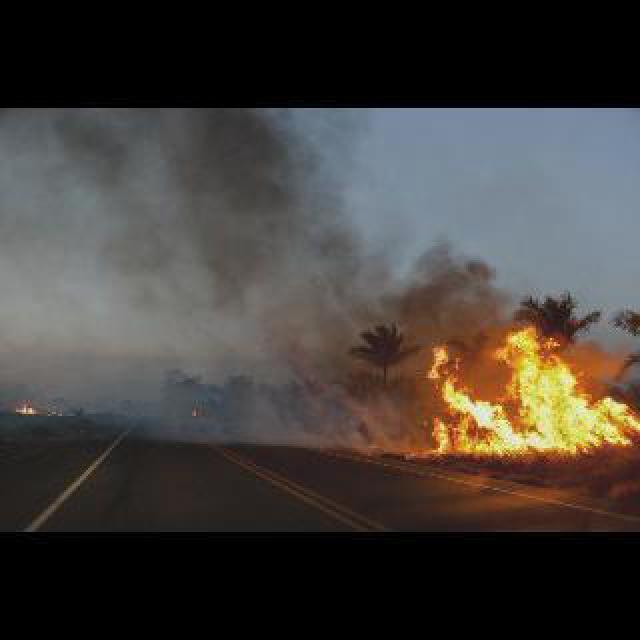Fire: (414, 330, 638, 458), (14, 402, 38, 412)
Smoke: (2, 106, 370, 342), (132, 376, 414, 446), (374, 232, 542, 328)
